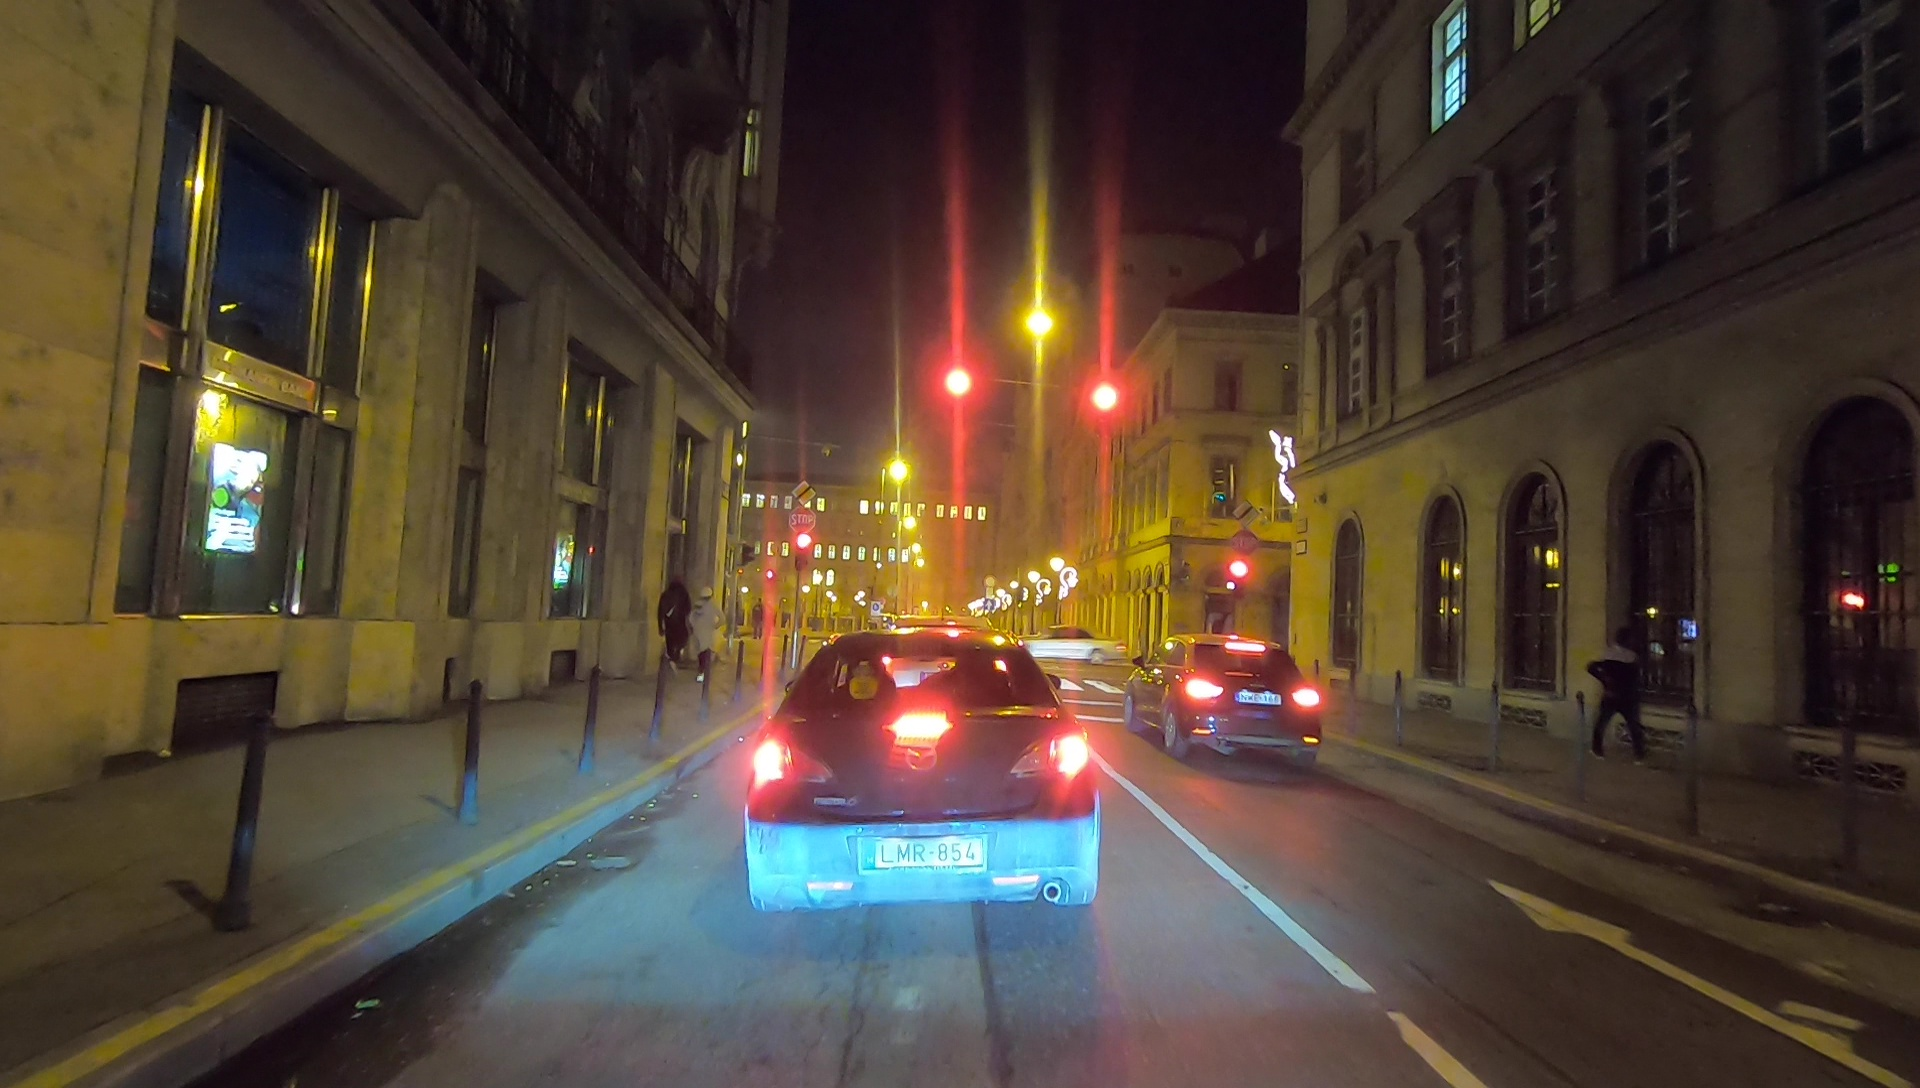person: (1580, 628, 1652, 771), (652, 573, 689, 684), (693, 584, 723, 699)
